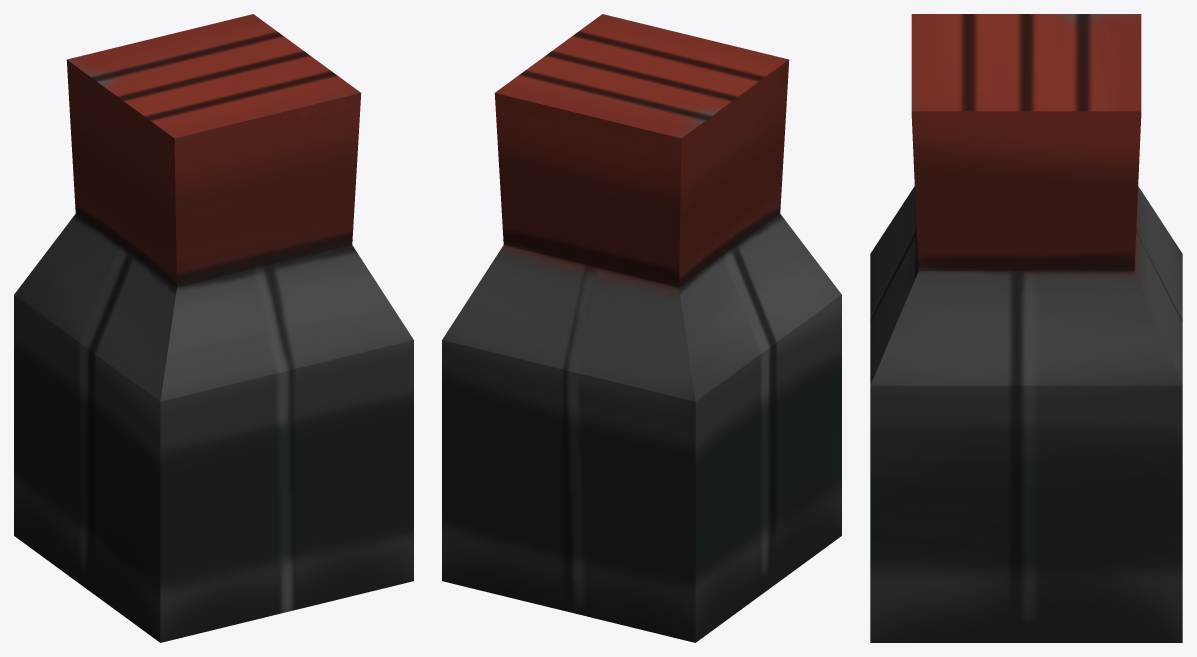
The model's file is Bottle.fbx.
3 renders of one model, left to right at view 1: azimuth 30°, elevation 25°; view 2: azimuth 150°, elevation 25°; view 3: azimuth 270°, elevation 25°, orthographic. The views are drawn at different scales.
Visible parts, largest first — view 1: Cube.003; view 2: Cube.003; view 3: Cube.003.
Part boxes in pixels (x1,y1,x2,y2): Cube.003: [14, 14, 413, 642]; Cube.003: [442, 14, 841, 642]; Cube.003: [870, 14, 1182, 642].
Size of the model in its own units: 27.98 by 50.86 by 27.98.
